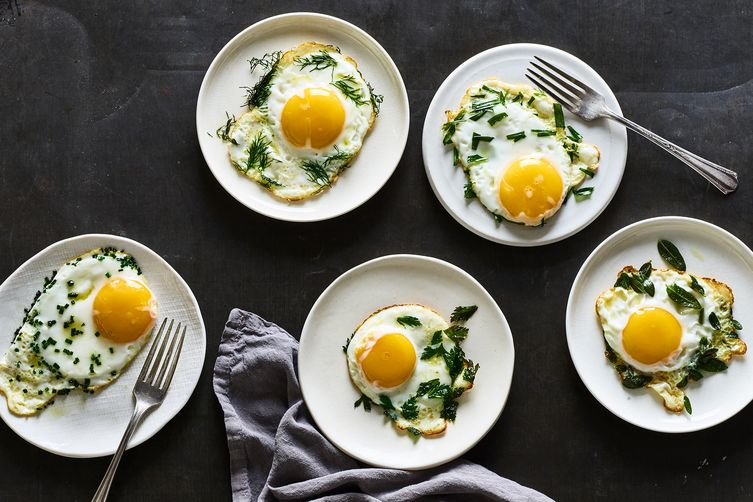fried egg: (459, 92, 563, 216), (352, 320, 467, 422), (608, 281, 716, 377), (261, 48, 340, 179), (35, 279, 152, 364)
